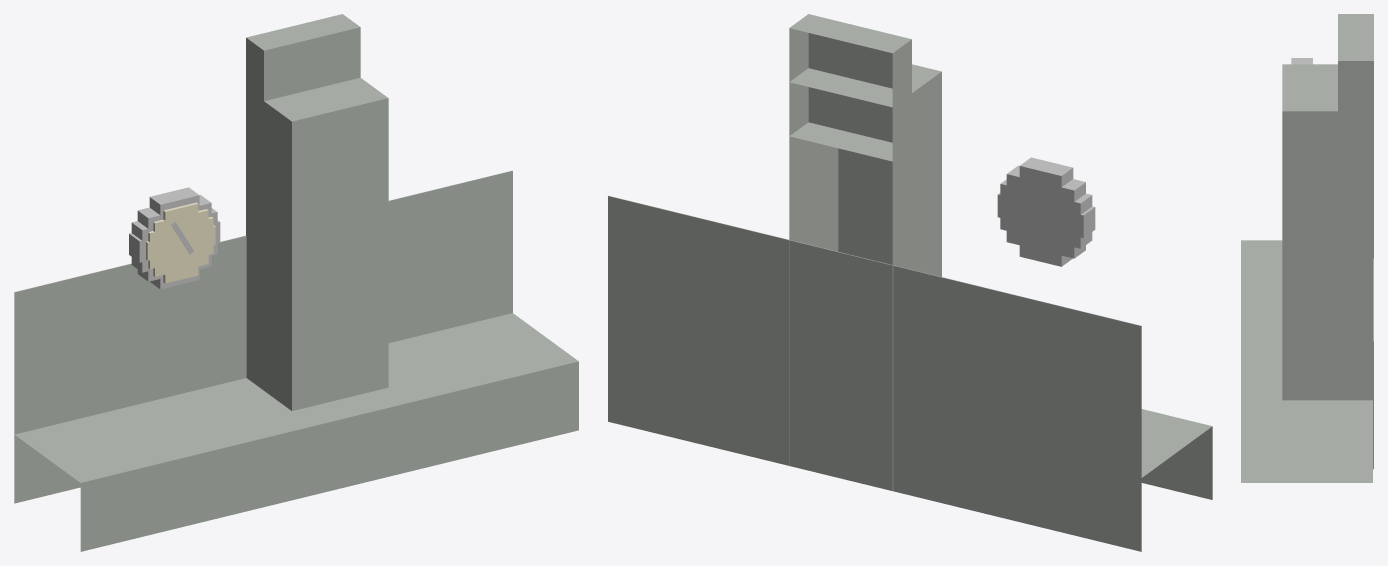
The model's file is cell_33.obj.
3 renders of one model, left to right at view 1: azimuth 30°, elevation 25°; view 2: azimuth 150°, elevation 25°; view 3: azimuth 270°, elevation 25°, orthographic. The views are drawn at different scales.
Size of the model in its own units: 1 by 0.7844 by 0.2313.
